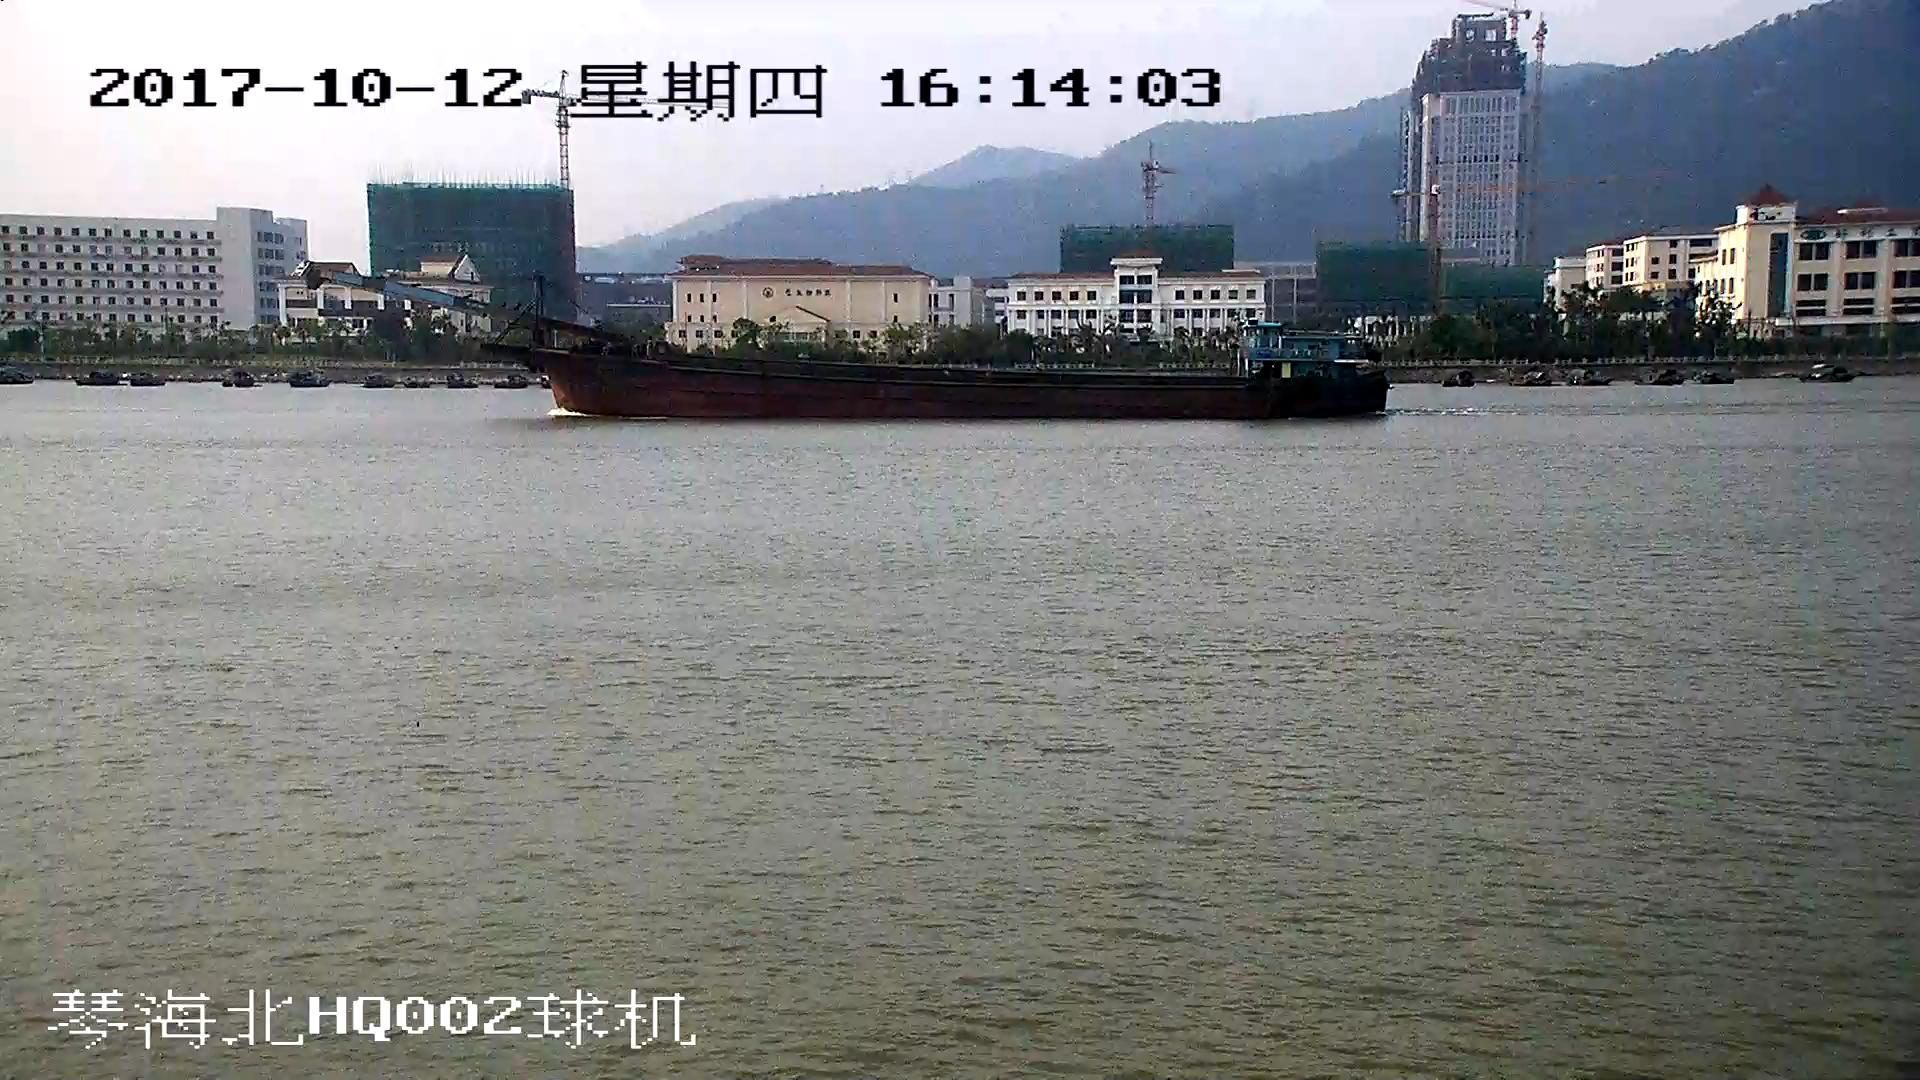bulk cargo carrier: (315, 271, 1389, 424)
